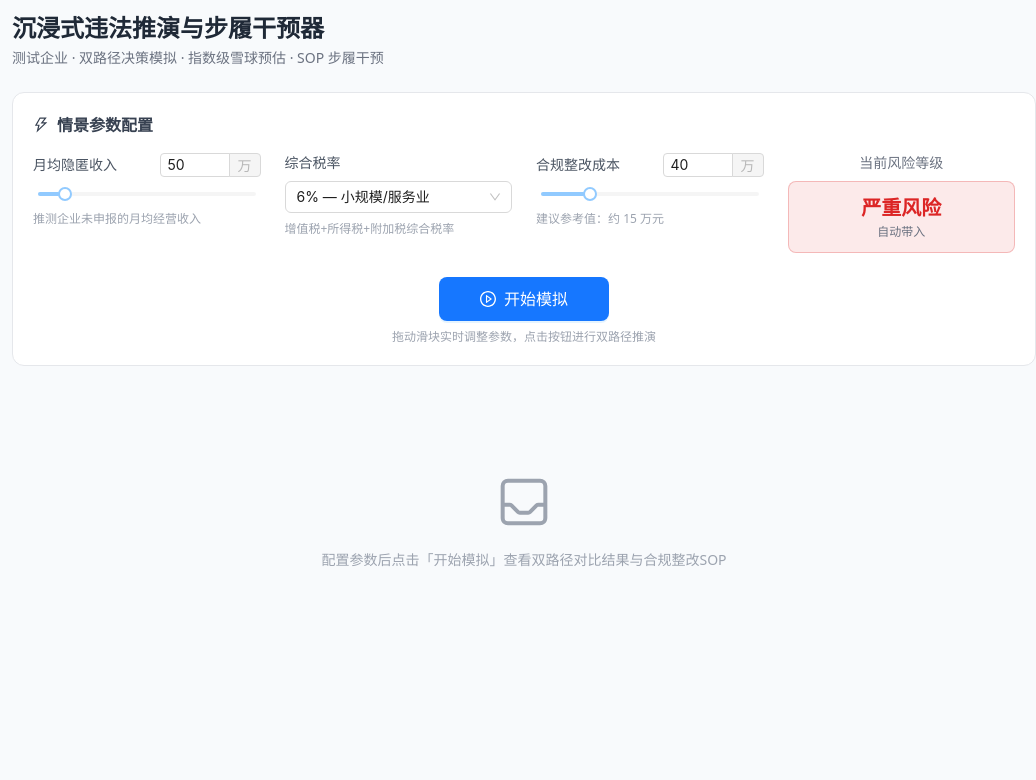
Test case: Simulator — 模拟执行 › 点击模拟 → 显示 LoadingSpinner
This screenshot has width=1036, height=780.
What coordinates should you click on to do the following:
click the button "开始模拟"
I would click on:
 (524, 299)
Its box is [439,277,609,321].
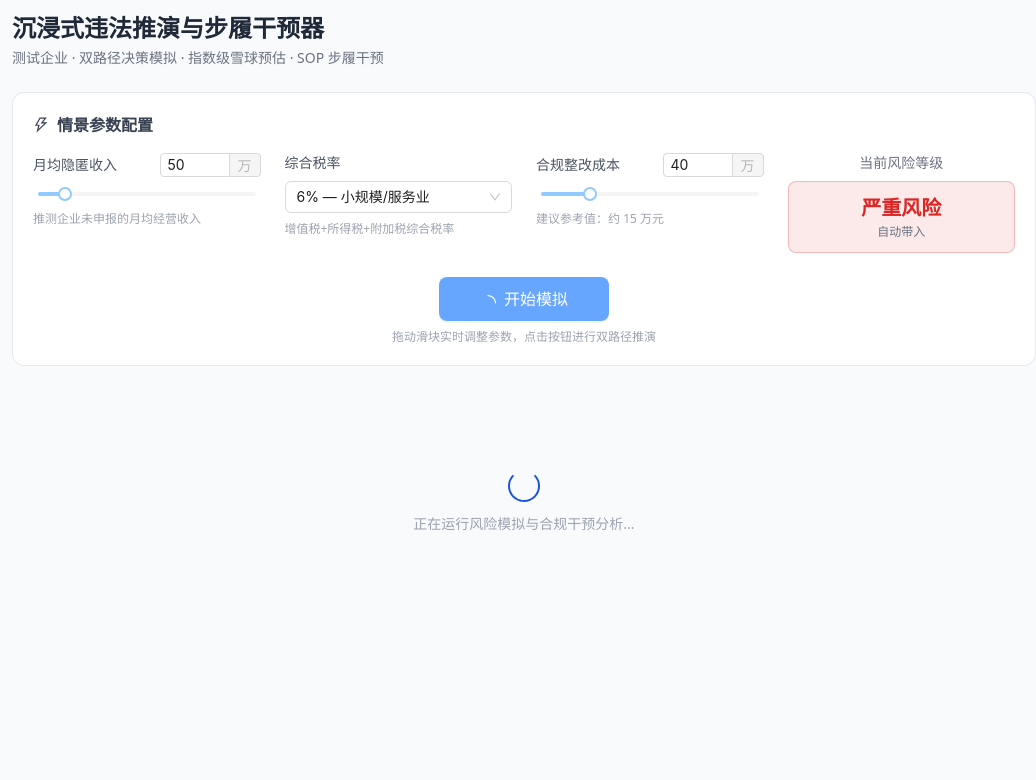
Expected: the text "正在运行风险模拟与合规干预分析..." is shown, [413,514,635,534]
